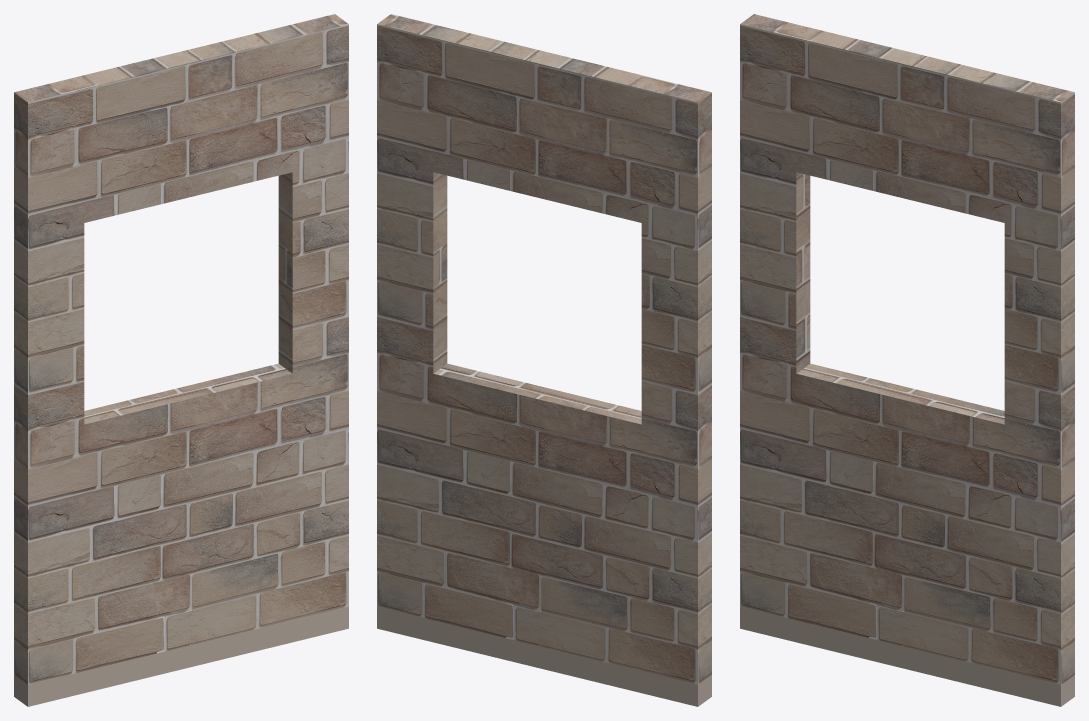
Rendered from ARC0210031.fbx.
3 renders of one model, left to right at view 1: azimuth 30°, elevation 25°; view 2: azimuth 150°, elevation 25°; view 3: azimuth 330°, elevation 25°, orthographic.
Visible parts, largest first — view 1: smARC0210031; view 2: smARC0210031; view 3: smARC0210031.
Part boxes in pixels (bbox=[...]): smARC0210031: bbox=[14, 14, 348, 706]; smARC0210031: bbox=[377, 14, 711, 706]; smARC0210031: bbox=[740, 14, 1074, 706].
Bounding box in the file's own units: 182 × 328 × 13.67.
Materials: 1 (1 with a texture image).
